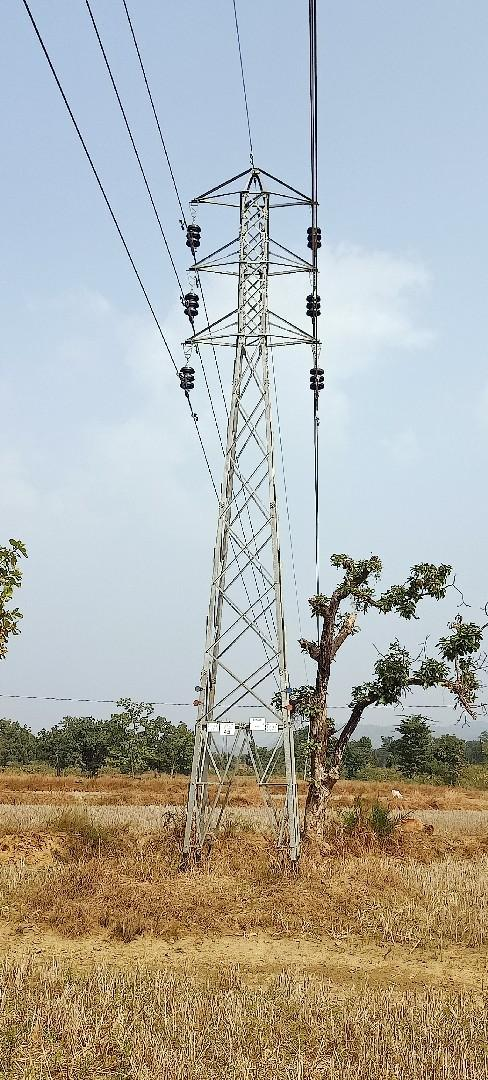GSM Antenna: (179, 161, 330, 805)
